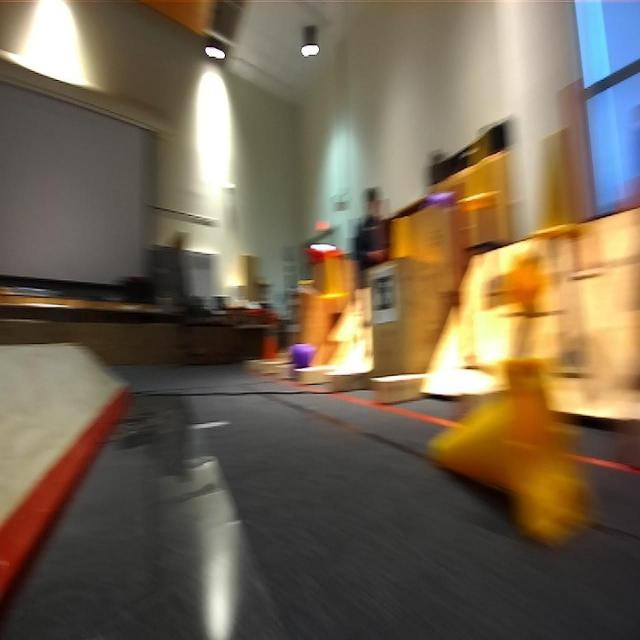frc_cone: (428, 355, 592, 545), (532, 131, 587, 248), (458, 110, 504, 214), (508, 250, 550, 311), (319, 256, 351, 300), (388, 210, 412, 260)
frc_cube: (424, 186, 458, 209), (292, 341, 314, 372)
